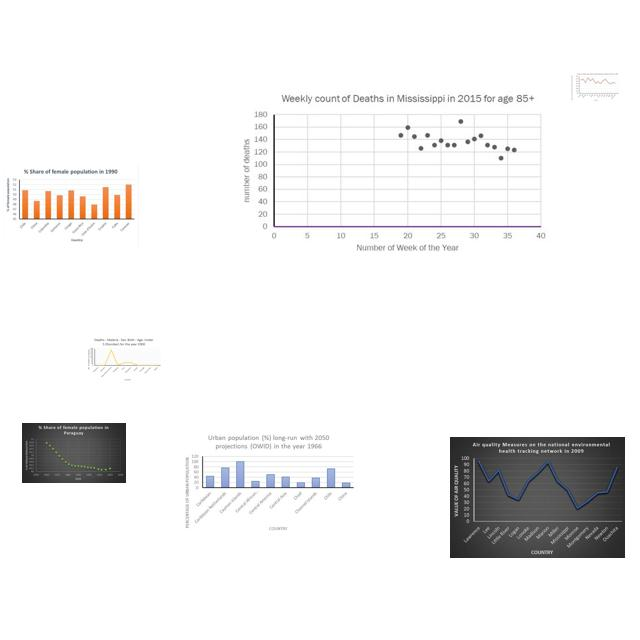Graph: (238, 91, 552, 259), (450, 437, 625, 558), (182, 434, 356, 534), (3, 165, 139, 246), (22, 423, 126, 483), (86, 337, 162, 381), (570, 73, 620, 102)
